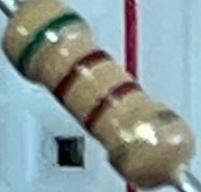Brown: (49, 46, 114, 108)
Green: (9, 5, 88, 79)
Red: (77, 76, 148, 138)
Side-Silver: (108, 103, 186, 178)
